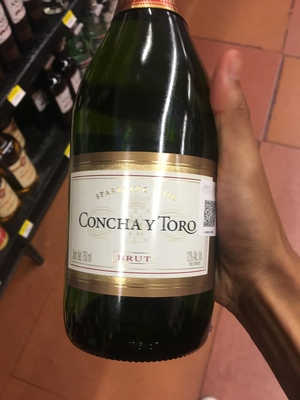brut: (63, 1, 229, 353)
